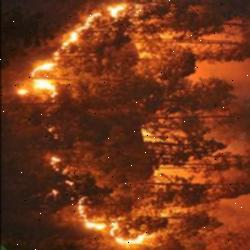fire: (10, 0, 130, 97), (45, 155, 156, 250)
